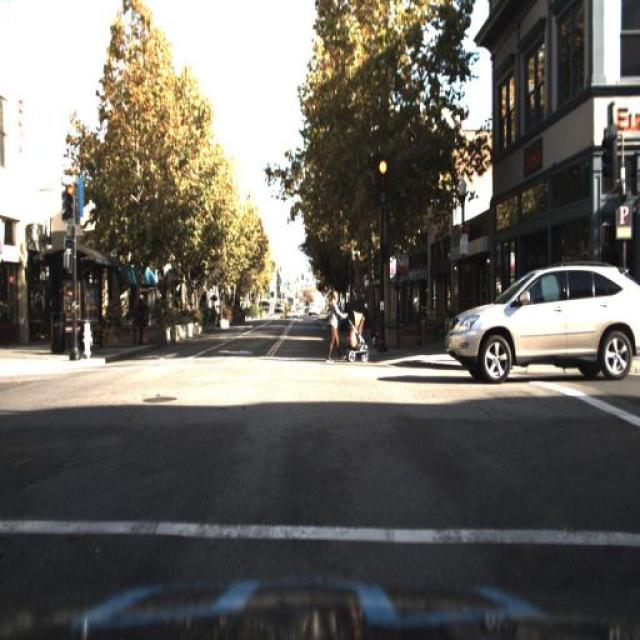car: (446, 254, 640, 378)
trafficLight: (326, 290, 369, 364), (134, 291, 148, 345)
trafficLight-RedLeft: (61, 171, 83, 221), (374, 153, 390, 194), (63, 181, 76, 223)
